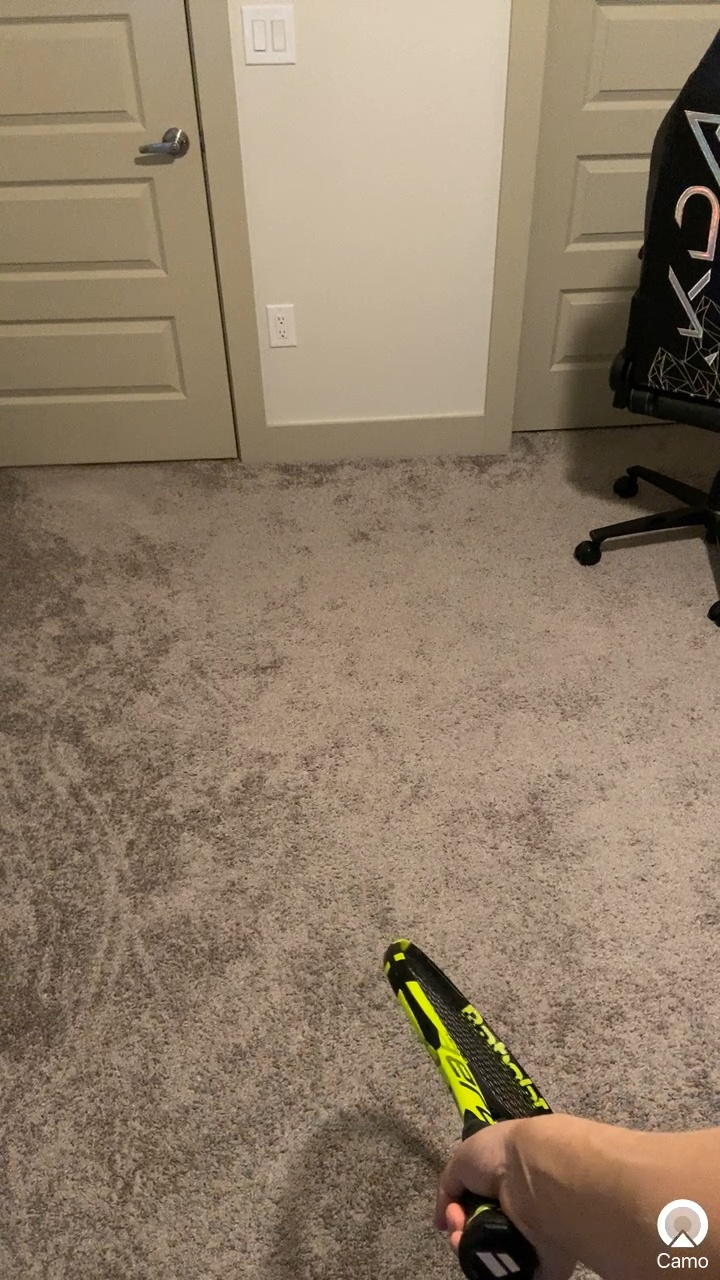Tennis_Racquet: (331, 902, 587, 1280)
